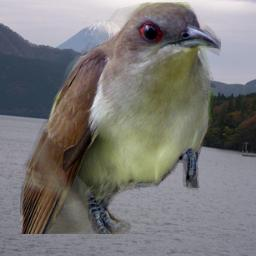Cuckoo: (20, 2, 221, 234)
